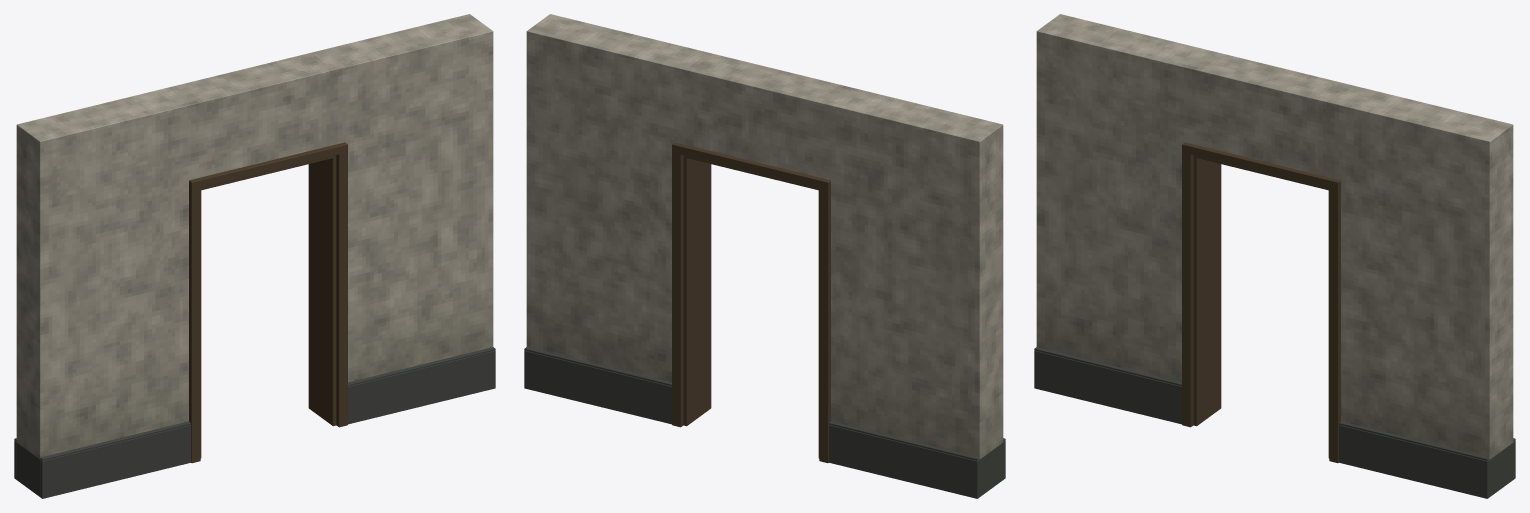
The model's file is Wall_Doorway.glb.
3 renders of one model, left to right at view 1: azimuth 30°, elevation 25°; view 2: azimuth 150°, elevation 25°; view 3: azimuth 330°, elevation 25°, orthographic.
Visible parts, largest first — view 1: Wall_Doorway.001; view 2: Wall_Doorway.001; view 3: Wall_Doorway.001.
Boxes of the visible parts, x1,y1,x2,y2 form: Wall_Doorway.001: (14,14,495,498); Wall_Doorway.001: (524,14,1005,498); Wall_Doorway.001: (1034,14,1515,498).
Bounding box in the file's own units: 4 × 3 × 0.455.
Materials: 3 (3 with a texture image).
